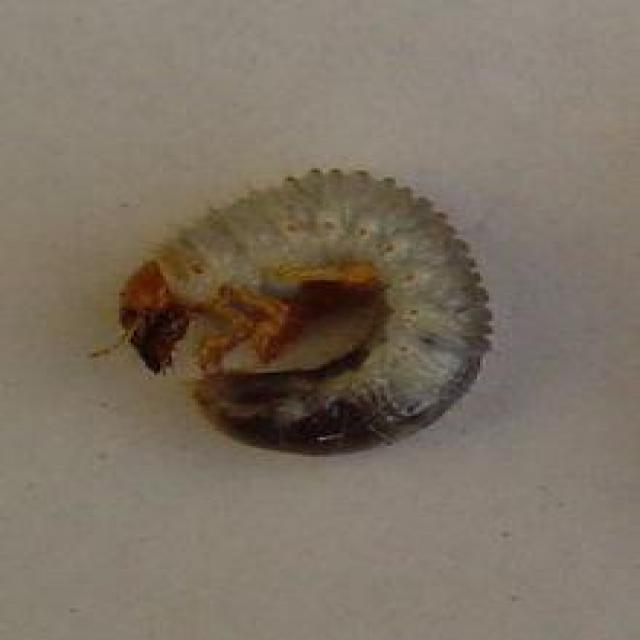Grub-Adult-: (109, 161, 508, 463)
